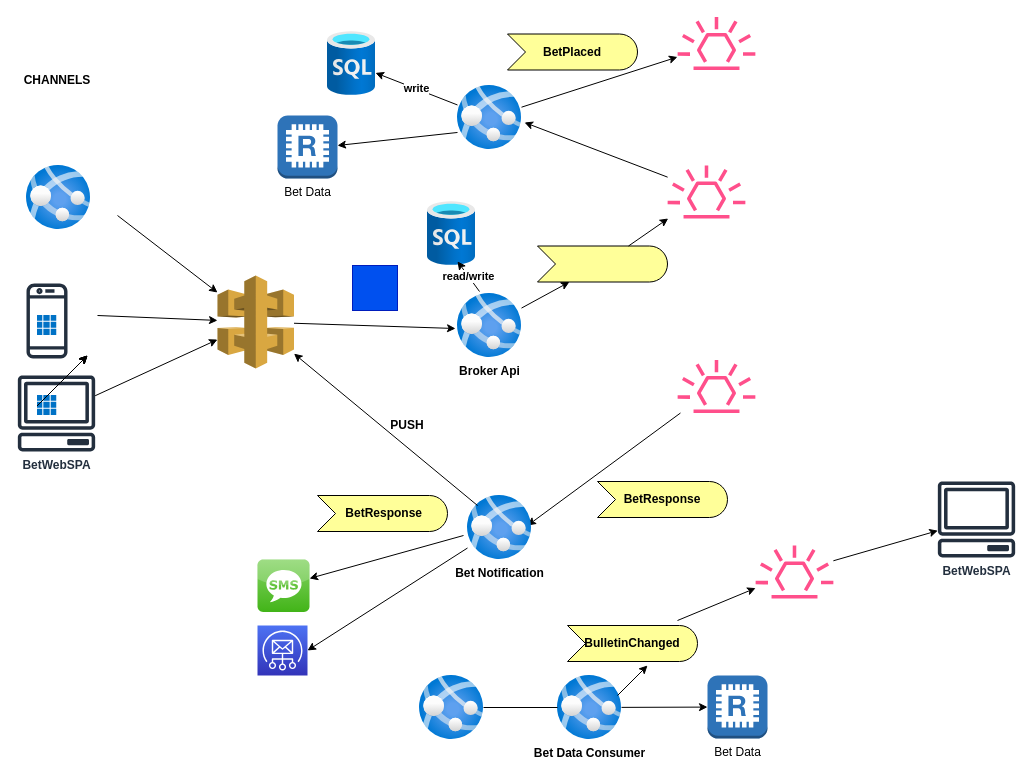
This 1032x778 diagram has some shape labels left out. Here are the shapes that lost their labels. From the top down, the centre of each, then its label:
At point (489, 117): "Bet Consumer".
At point (58, 197): "External App".
At point (602, 263): "BetArrived".
At point (375, 287): "Place BetSlip".
At point (255, 321): "API Gateway".
At point (451, 707): "Bet Data Provider".
